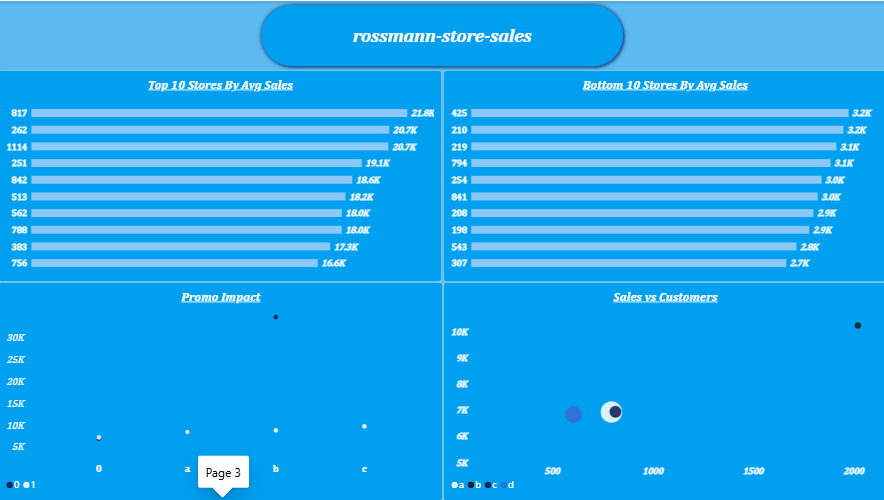

What the dashboard file says about the page in this screenshot:
{"tool":"powerbi","page":{"name":"Page 3","canvas":[1920,1080],"ordinal":2},"visuals":[{"type":"shape","box":[560,0,800,150],"z":0},{"type":"barChart","title":"Top 10 Stores By Avg Sales","fields":{"Category":["train.Store"],"Y":["Avg(train.Sales)"]},"box":[0,149,959,457.9],"z":1},{"type":"barChart","title":"Bottom 10 Stores By Avg Sales","fields":{"Category":["train.Store"],"Y":["Avg(train.Sales)"]},"box":[961.2,149,959,457.9],"z":2},{"type":"scatterChart","title":"Promo Impact ","fields":{"Series":["train.SchoolHoliday"],"X":["train.StateHoliday"],"Y":["Avg(train.Sales)"]},"box":[0,607,961.2,473],"z":3},{"type":"scatterChart","title":"Sales vs Customers","fields":{"Series":["train.StoreType"],"Size":["Sum(train.Sales)1"],"X":["Avg(train.Customers)"],"Y":["Avg(train.Sales)"]},"box":[961,607,959,473],"z":4}]}

Visuals, with their boxes in screenshot pixels (x1, y1, x2, y2), scaled from the page's 1920x1080 canvas onto the 884x500 screenshot:
shape: <bbox>258, 0, 626, 69</bbox>
"Top 10 Stores By Avg Sales" barChart: <bbox>0, 69, 442, 281</bbox>
"Bottom 10 Stores By Avg Sales" barChart: <bbox>443, 69, 883, 281</bbox>
"Promo Impact " scatterChart: <bbox>0, 281, 443, 499</bbox>
"Sales vs Customers" scatterChart: <bbox>442, 281, 883, 499</bbox>
